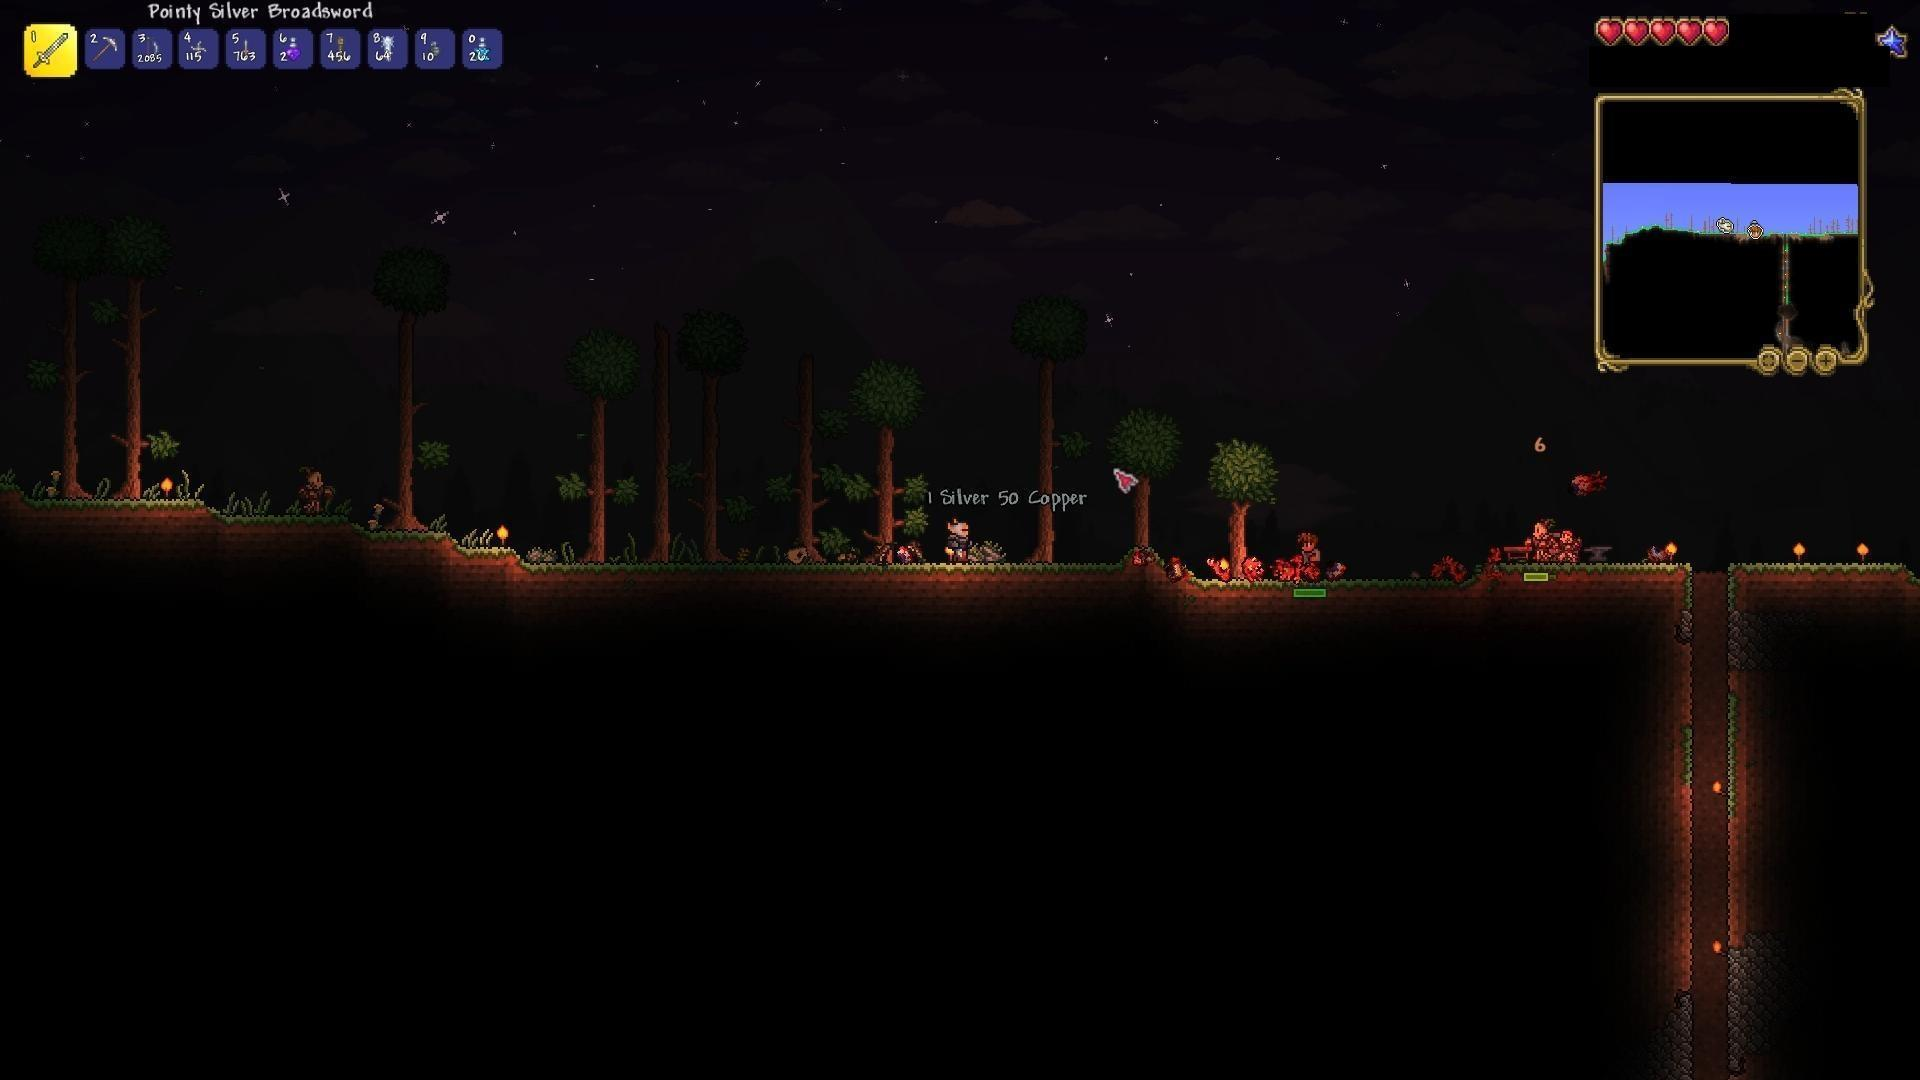dirt: (513, 545, 1155, 600), (1717, 613, 1779, 947), (273, 505, 525, 587), (1153, 553, 1485, 605), (1659, 615, 1701, 997), (8, 487, 290, 542), (1465, 555, 1697, 612), (1720, 556, 1920, 617)
heart: (1702, 17, 1733, 51), (1593, 16, 1626, 46), (1676, 15, 1704, 50), (1650, 16, 1676, 49), (1625, 15, 1651, 44)
tree: (843, 353, 924, 563), (1116, 397, 1180, 559), (1208, 435, 1276, 585)
